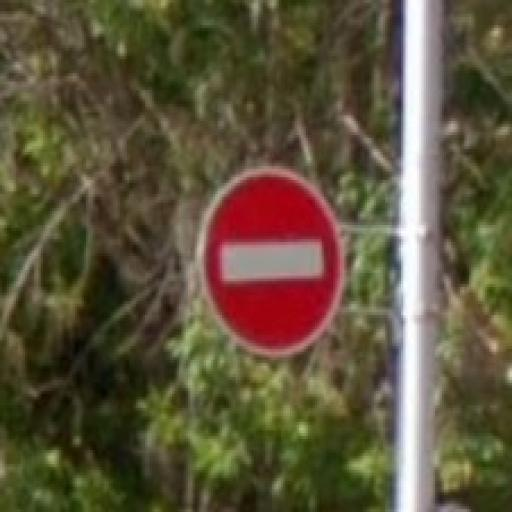traffic_sign: (196, 164, 350, 361)
